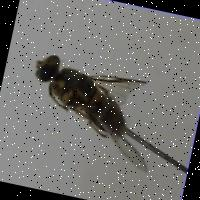Oriental-fruit-fly: (9, 46, 172, 183)
